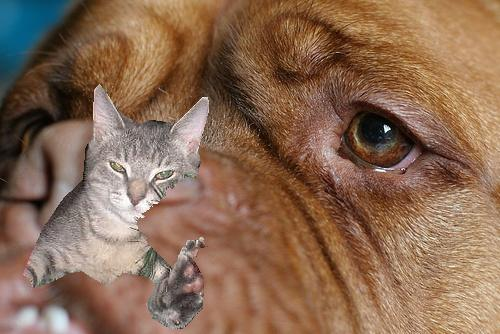tampered: (24, 85, 209, 329)
